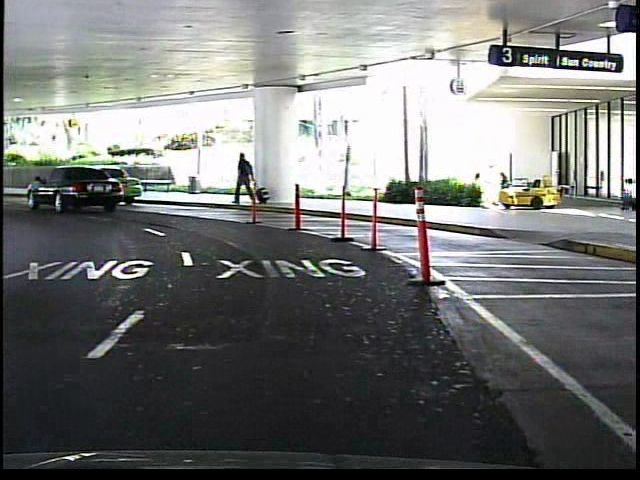person: (232, 150, 259, 211), (612, 176, 639, 215)
